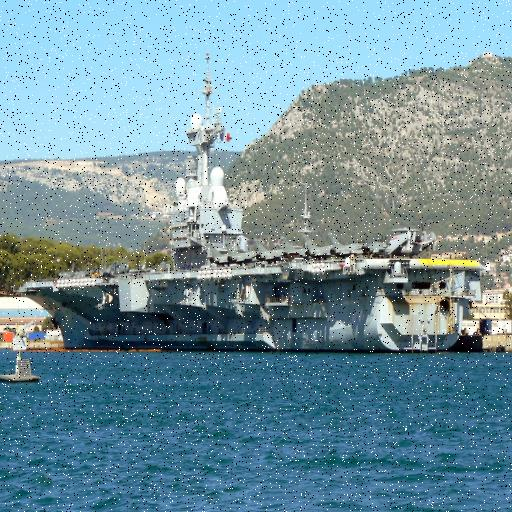Portanaves: (21, 48, 483, 355)
